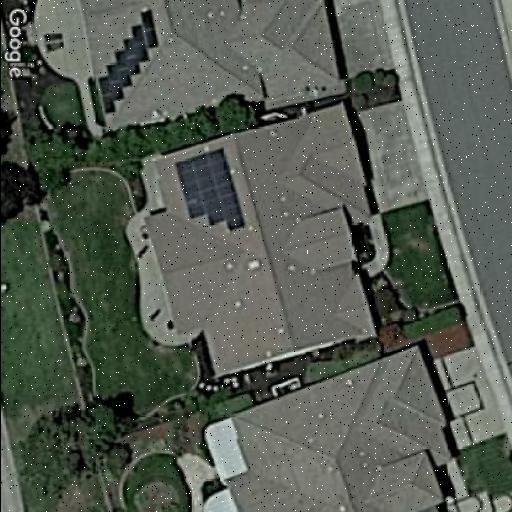solar-panel: (98, 5, 162, 122), (172, 146, 246, 236)
